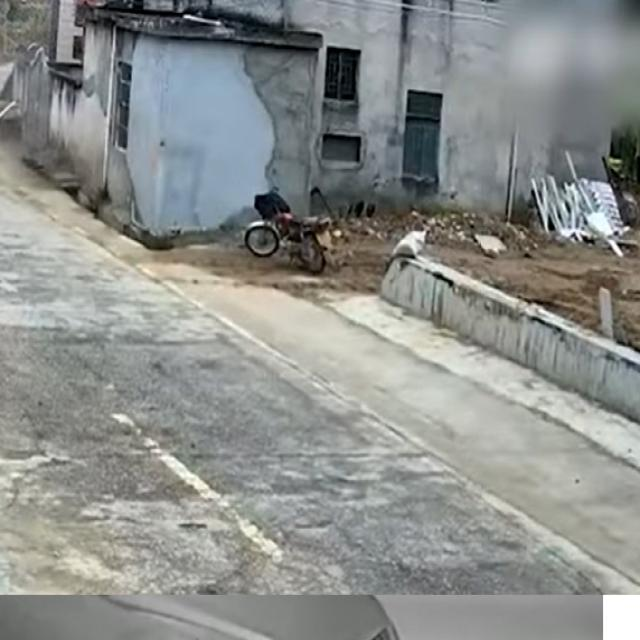Smoke: (499, 0, 640, 164)
